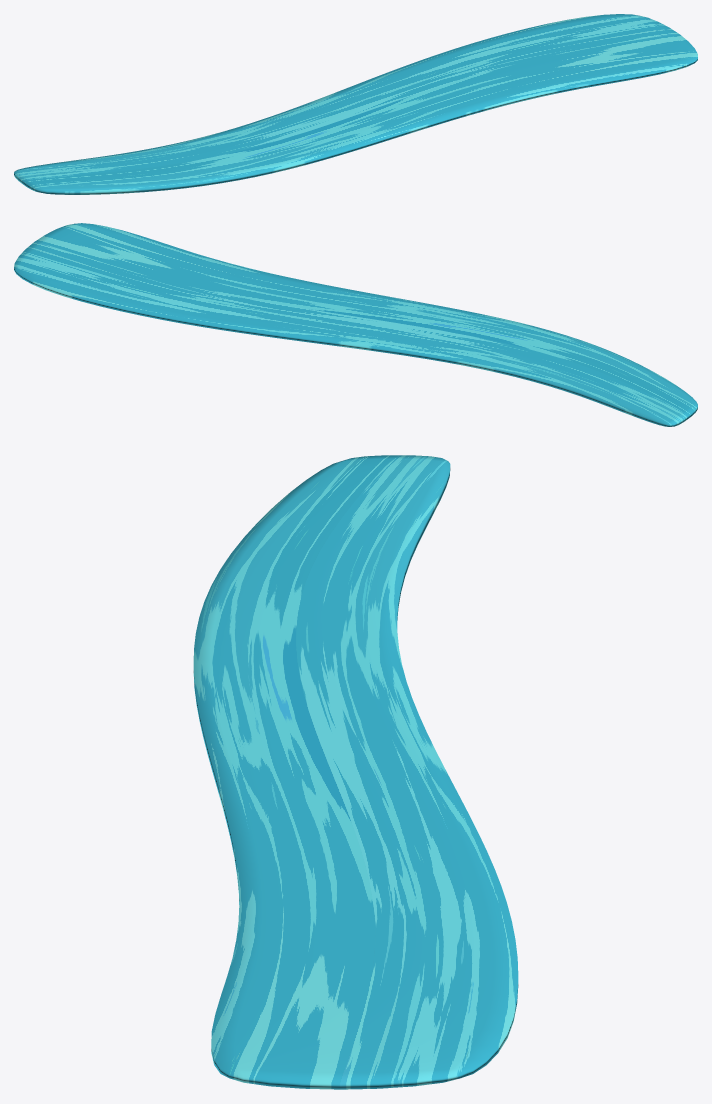
Rendered from river.fbx.
3 views of the same model, one above another, from view 1: azimuth 30°, elevation 25°; view 2: azimuth 150°, elevation 25°; view 3: azimuth 270°, elevation 25° (orthographic). The views are drawn at different scales.
Visible parts, largest first — view 1: pCube1; view 2: pCube1; view 3: pCube1.
Part boxes in pixels (x1,y1,x2,y2): pCube1: (14, 14, 697, 194); pCube1: (14, 223, 697, 426); pCube1: (193, 455, 518, 1089).
Size of the model in its own units: 16.74 by 0.1766 by 3.66.
